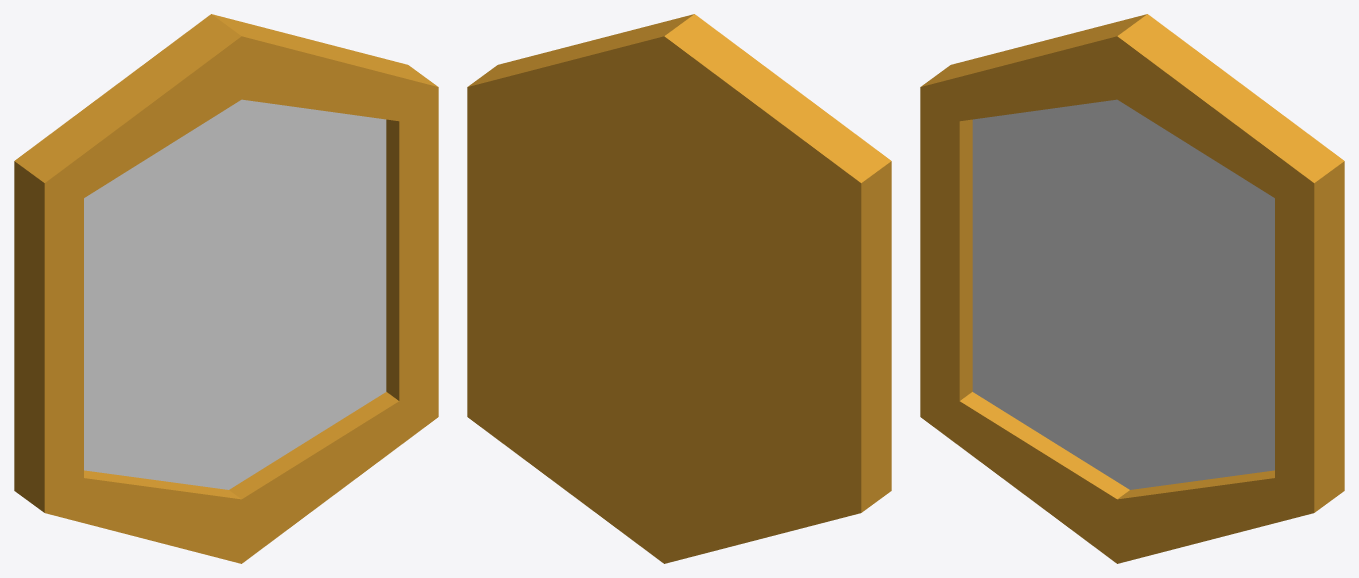
The model's file is CuadroRombo.fbx.
3 renders of one model, left to right at view 1: azimuth 30°, elevation 25°; view 2: azimuth 150°, elevation 25°; view 3: azimuth 330°, elevation 25°, orthographic.
Parts seen in each view (by area): view 1: Cube; view 2: Cube; view 3: Cube.
Part boxes in pixels (left/top/right/bottom): Cube: left=14, top=14, right=438, bottom=563; Cube: left=467, top=14, right=891, bottom=563; Cube: left=920, top=14, right=1344, bottom=563.
Size of the model in its own units: 1 by 1.28 by 0.1338.
